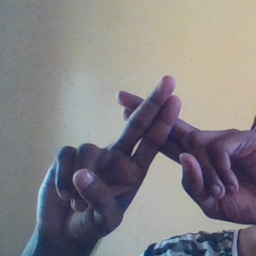F: (74, 69, 238, 199)
